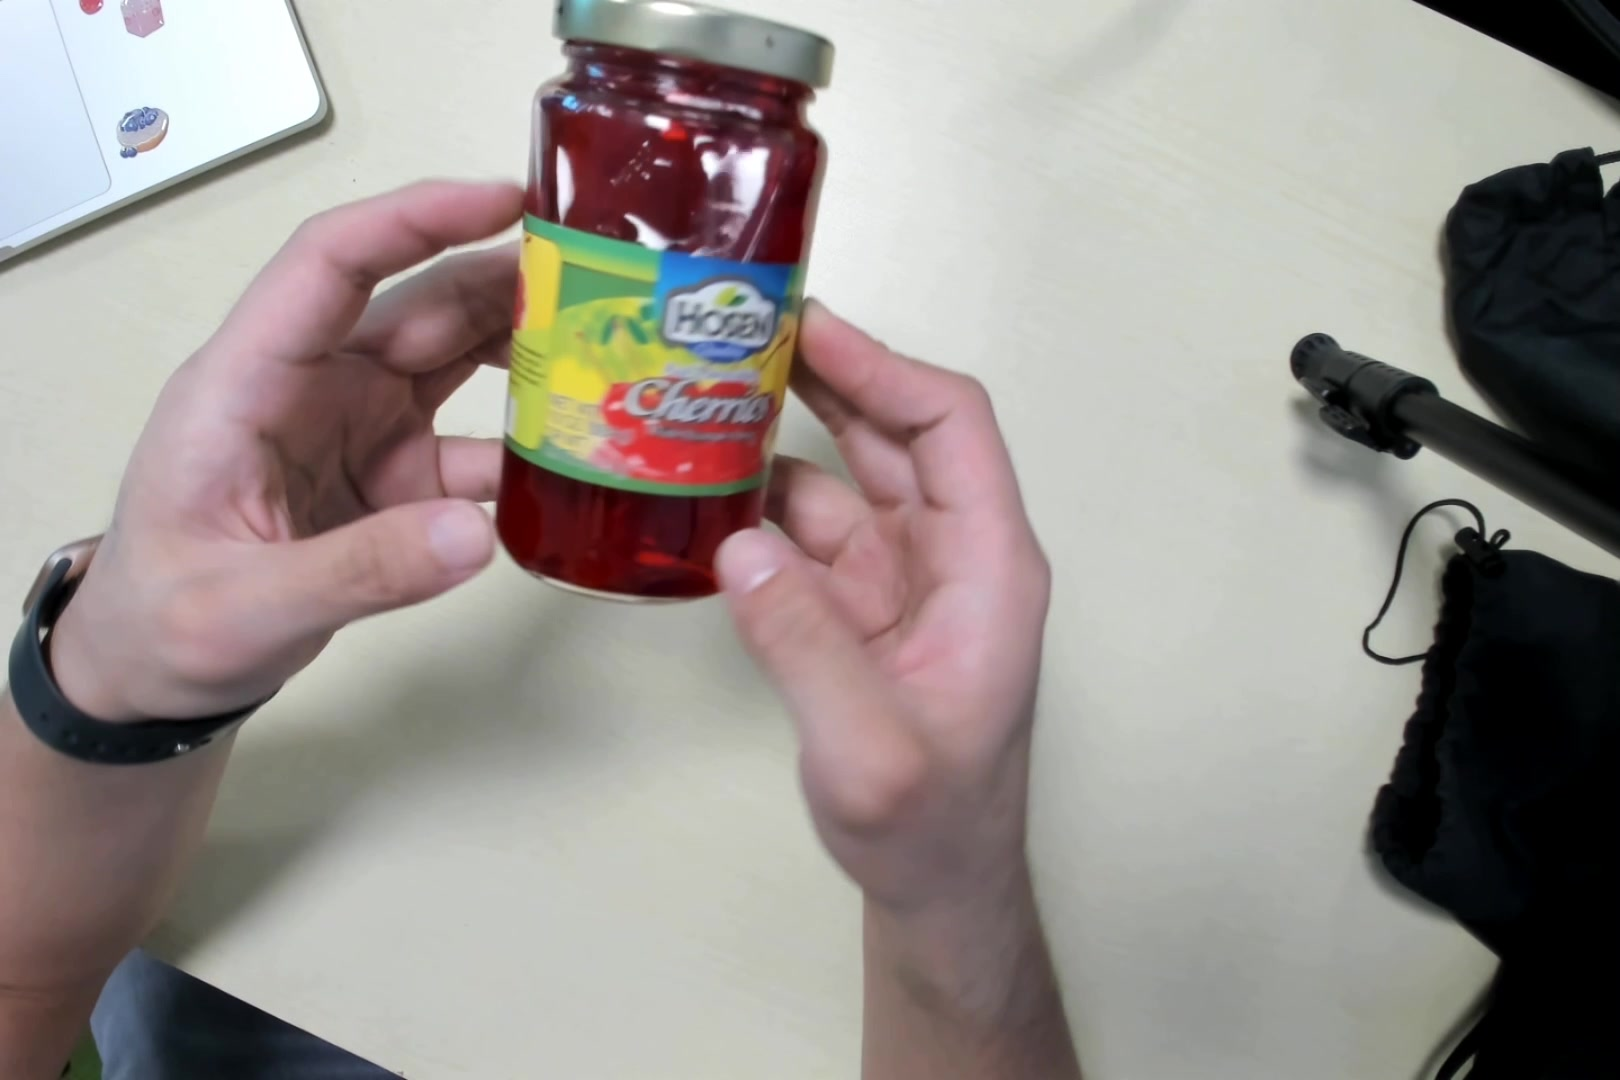OtherBakingNeeds_200-299g_NonHalal_NonHealthy: (501, 8, 828, 594)
